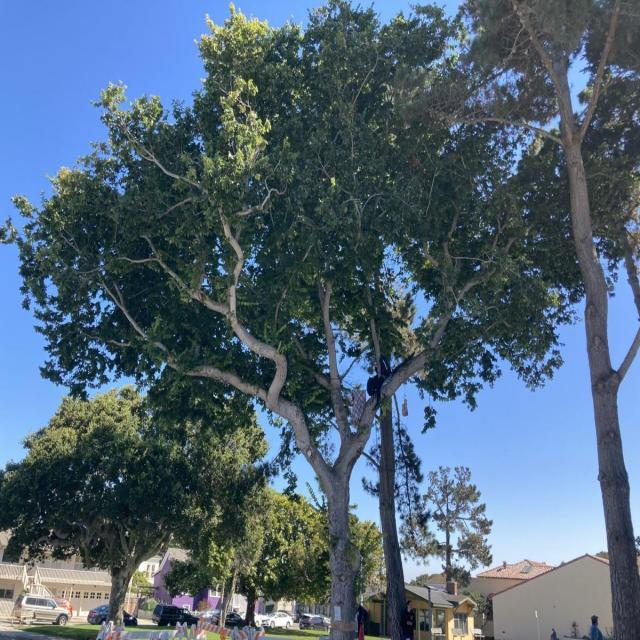Tree: (1, 1, 640, 640), (229, 106, 540, 640), (388, 1, 640, 637), (1, 366, 271, 640), (193, 472, 390, 640), (161, 472, 256, 628), (398, 470, 501, 600)
